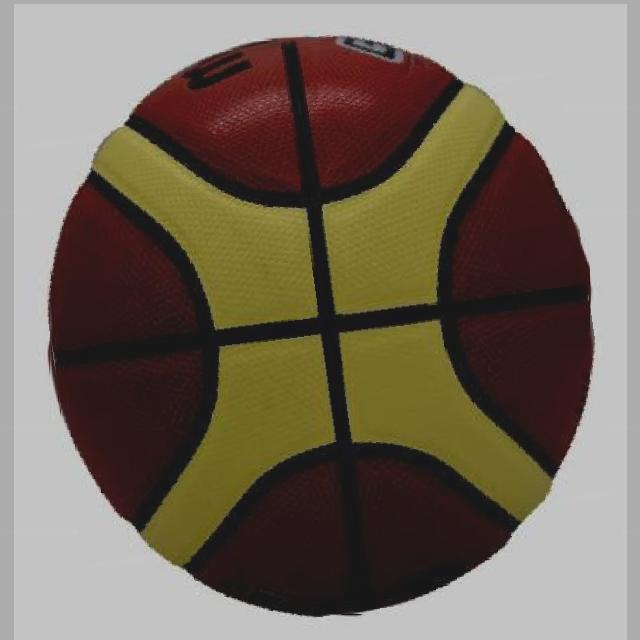Ball: (14, 4, 627, 640)
